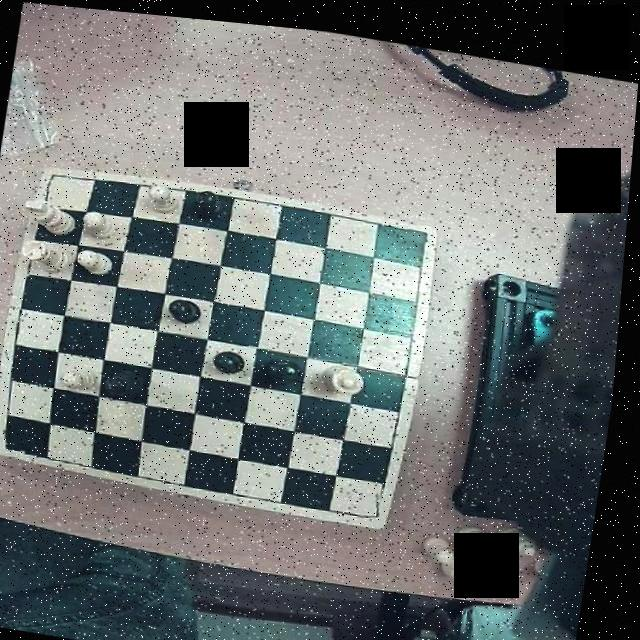chess-table-corners: (360, 482, 397, 520), (404, 214, 436, 249), (1, 426, 34, 459), (41, 165, 72, 192)
